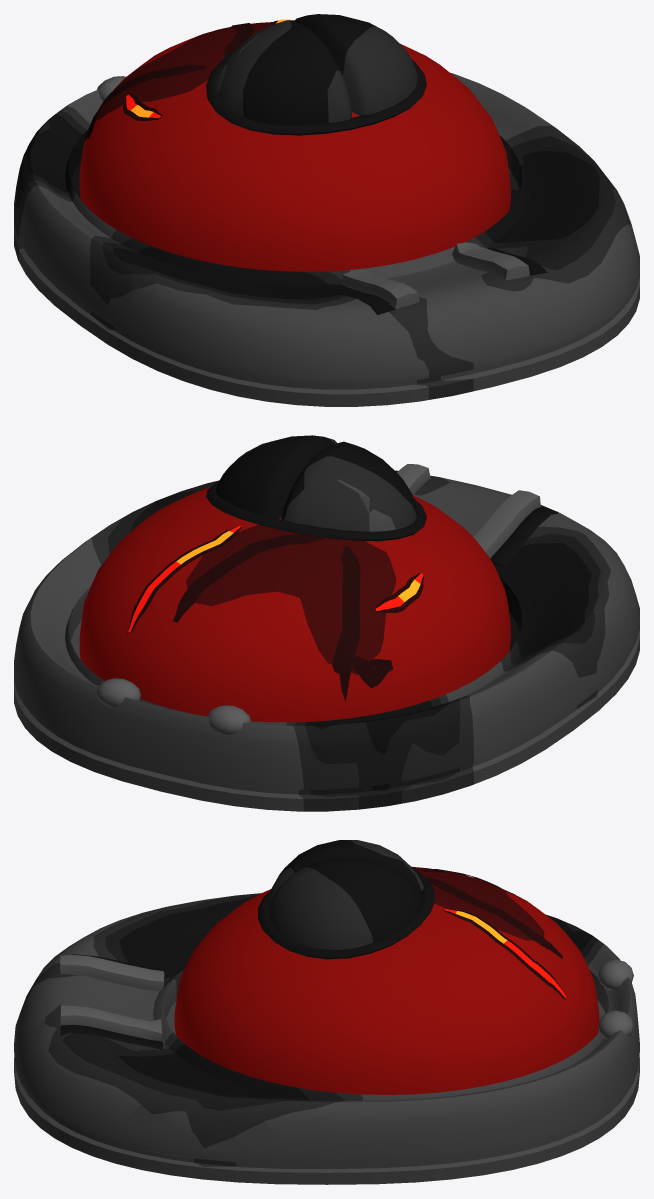
Rendered from eye_turret_damaged.glb.
The picture shows the model from 3 angles, top to bottom: view 1: azimuth 30°, elevation 25°; view 2: azimuth 150°, elevation 25°; view 3: azimuth 270°, elevation 25°; orthographic projection. The views are drawn at different scales.
Visible parts, largest first — view 1: housing, eye, lens, gasket, cracks, rib2.75, rib-2.25, slot-2.25; view 2: housing, eye, lens, cracks, gasket, rib-2.25, slot-2.25, lug0, lug1, rib2.75; view 3: housing, eye, lens, cracks, gasket, rib-2.25, rib2.75, slot2.75, lug0, lug1.
Part boxes in pixels (bbox=[...]): housing: bbox=[14, 72, 639, 406]; eye: bbox=[79, 22, 510, 271]; lens: bbox=[215, 14, 417, 125]; gasket: bbox=[206, 51, 426, 135]; cracks: bbox=[85, 19, 294, 139]; rib2.75: bbox=[452, 242, 529, 280]; rib-2.25: bbox=[341, 270, 419, 308]; slot-2.25: bbox=[324, 284, 395, 314]; housing: bbox=[14, 470, 639, 811]; eye: bbox=[79, 486, 510, 722]; lens: bbox=[215, 435, 417, 531]; cracks: bbox=[127, 526, 424, 701]; gasket: bbox=[206, 480, 426, 541]; rib-2.25: bbox=[473, 490, 540, 558]; slot-2.25: bbox=[490, 506, 558, 565]; lug0: bbox=[207, 705, 251, 734]; lug1: bbox=[96, 678, 141, 707]; rib2.75: bbox=[397, 464, 430, 495]; housing: bbox=[14, 893, 639, 1184]; eye: bbox=[174, 866, 599, 1094]; lens: bbox=[267, 840, 423, 949]; cracks: bbox=[412, 866, 565, 999]; gasket: bbox=[258, 869, 434, 959]; rib-2.25: bbox=[60, 955, 164, 991]; rib2.75: bbox=[60, 1005, 162, 1041]; slot2.75: bbox=[60, 1025, 162, 1049]; lug0: bbox=[598, 959, 633, 990]; lug1: bbox=[598, 1010, 633, 1039].
Size of the model in its own units: 22.4 by 10.04 by 26.1.
